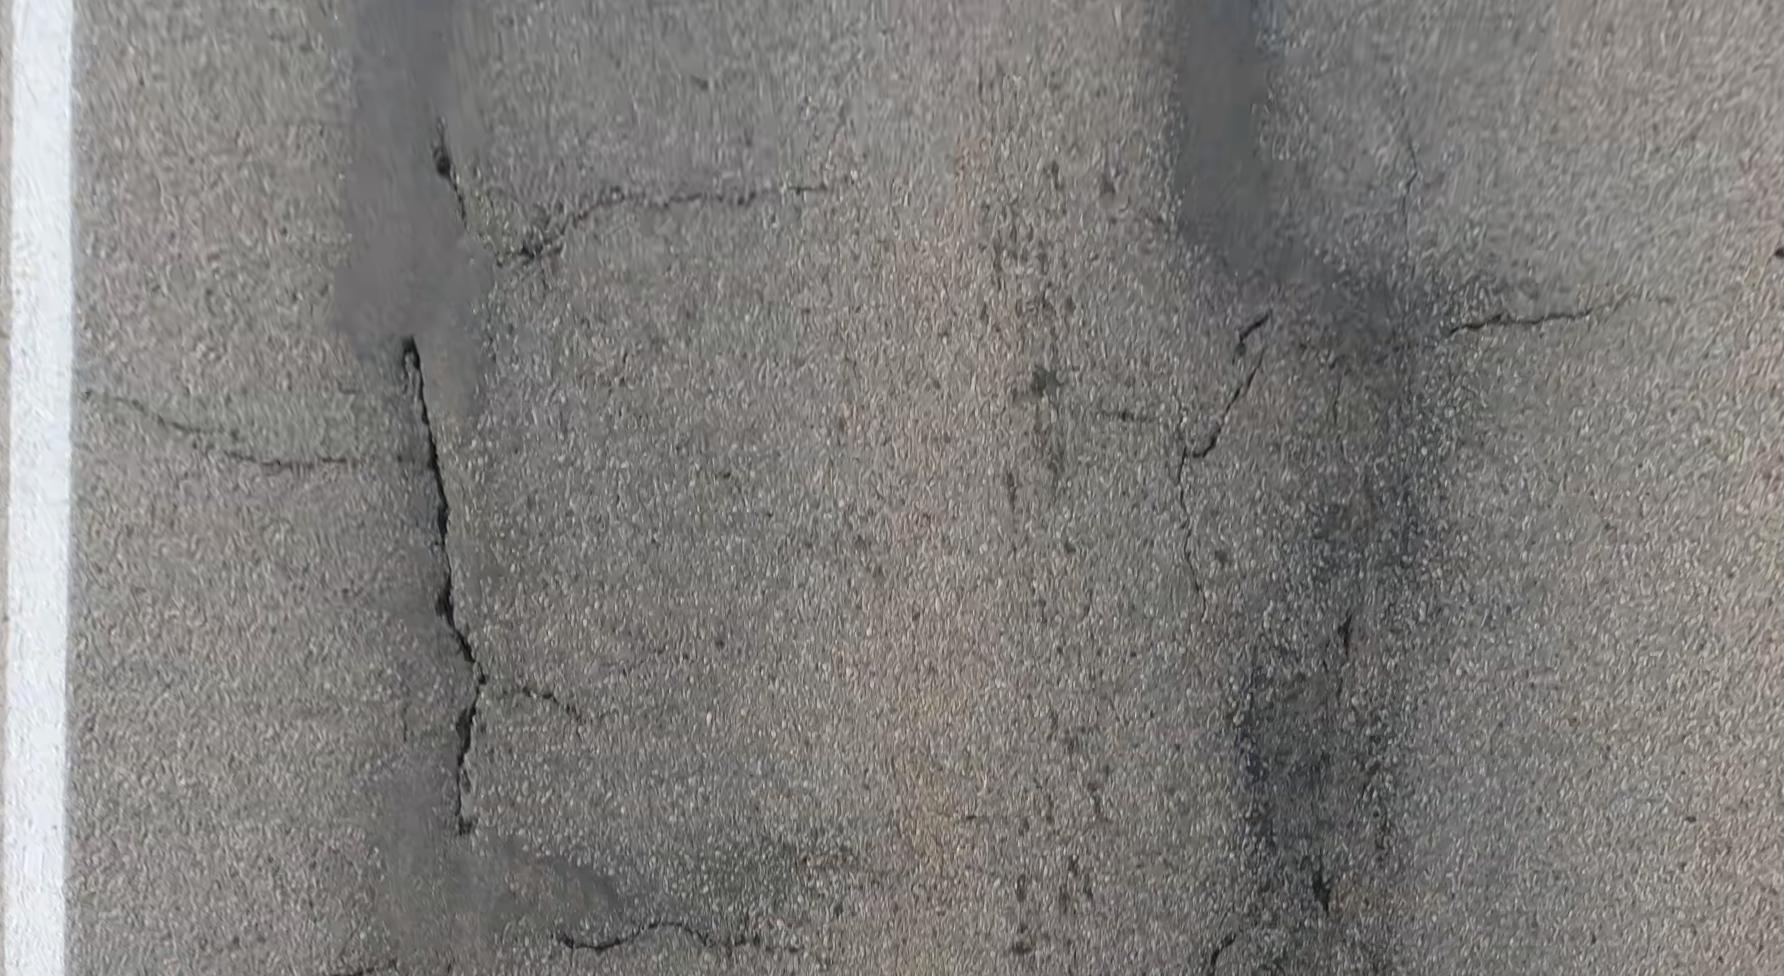pothole_patch_good: (353, 732, 626, 974)
